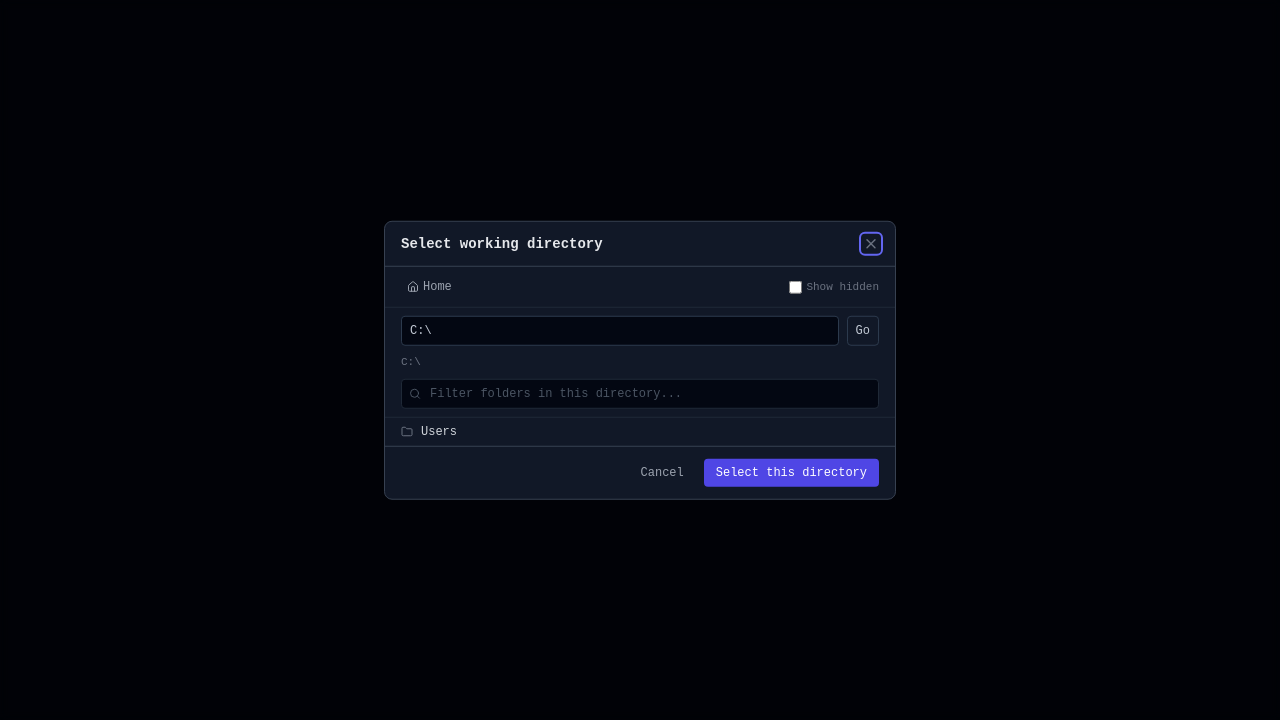
FolderPicker — navigation (Windows) › does not double the separator when the current path already ends in one
Step 1. Click the button "Users" → click(439, 431), box [385, 417, 895, 445]
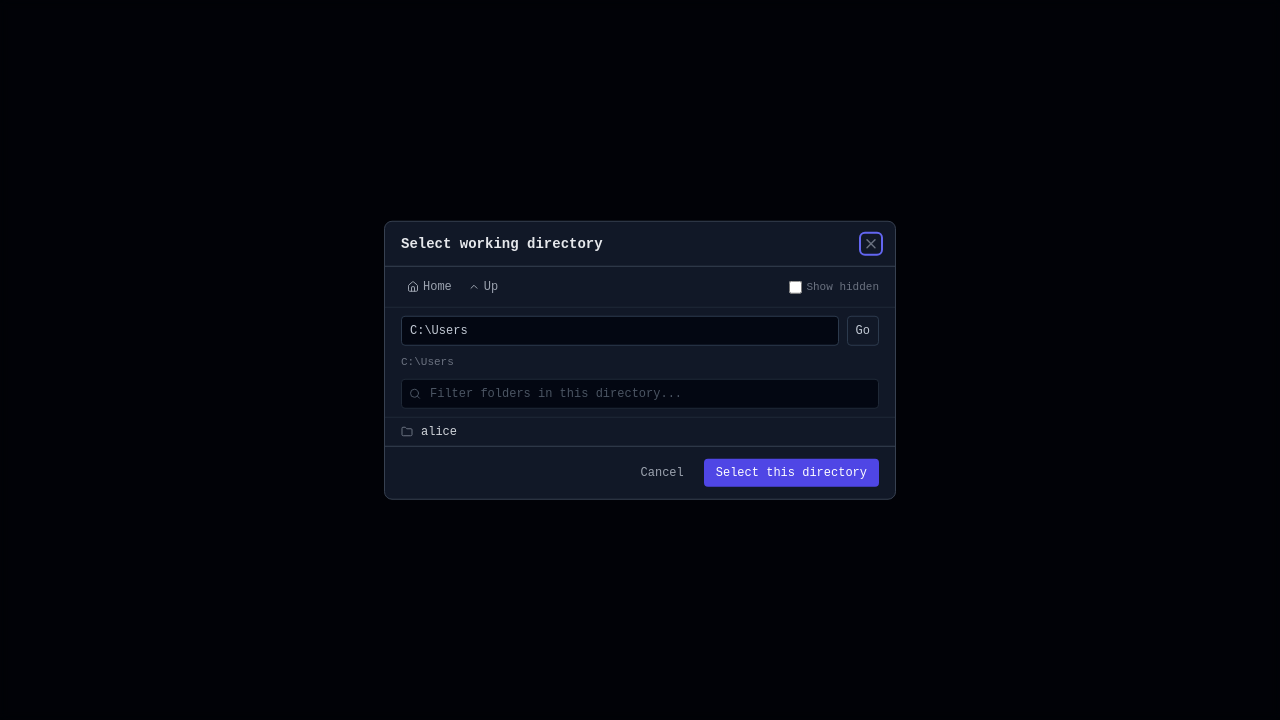
Expected: the text "alice" is shown, [421, 423, 457, 439]
Expected: the text "C:\\Users" is shown, [401, 356, 454, 368]
